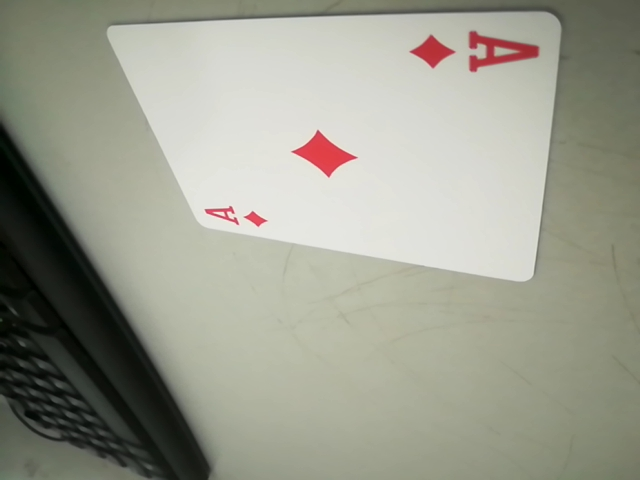fk a: (410, 25, 543, 76), (199, 197, 276, 230)
